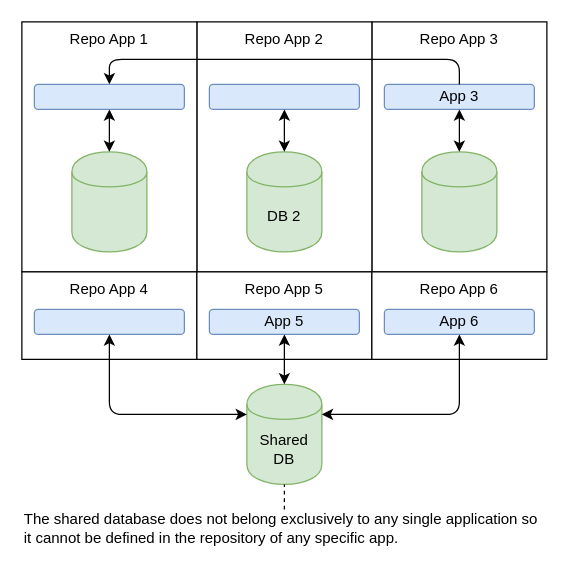
The diagram is 569 pixels wide and 569 high, and some of its shapes have lost their labels. Here are the shapes that lost their labels. From the top down, the centre of each, then its label:
At point (108, 96): "App 1".
At point (283, 96): "App 2".
At point (109, 201): "DB 1".
At point (459, 201): "DB 3".
At point (108, 321): "App 4".
